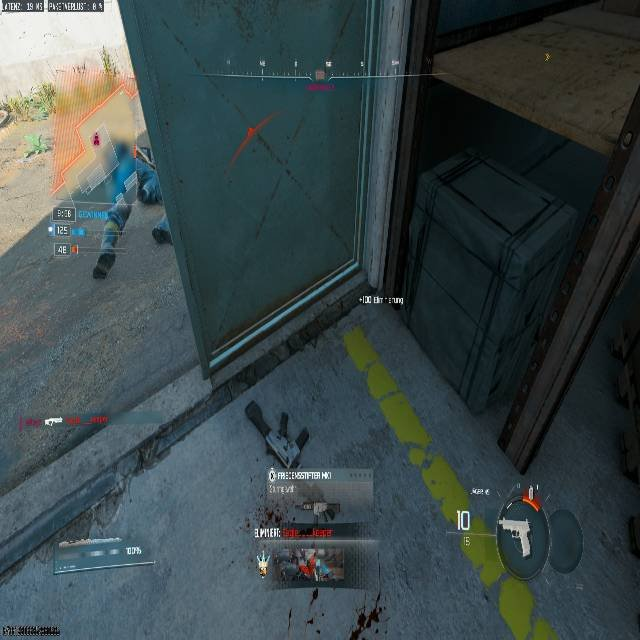head: (62, 0, 640, 596)
player: (92, 130, 170, 279)
